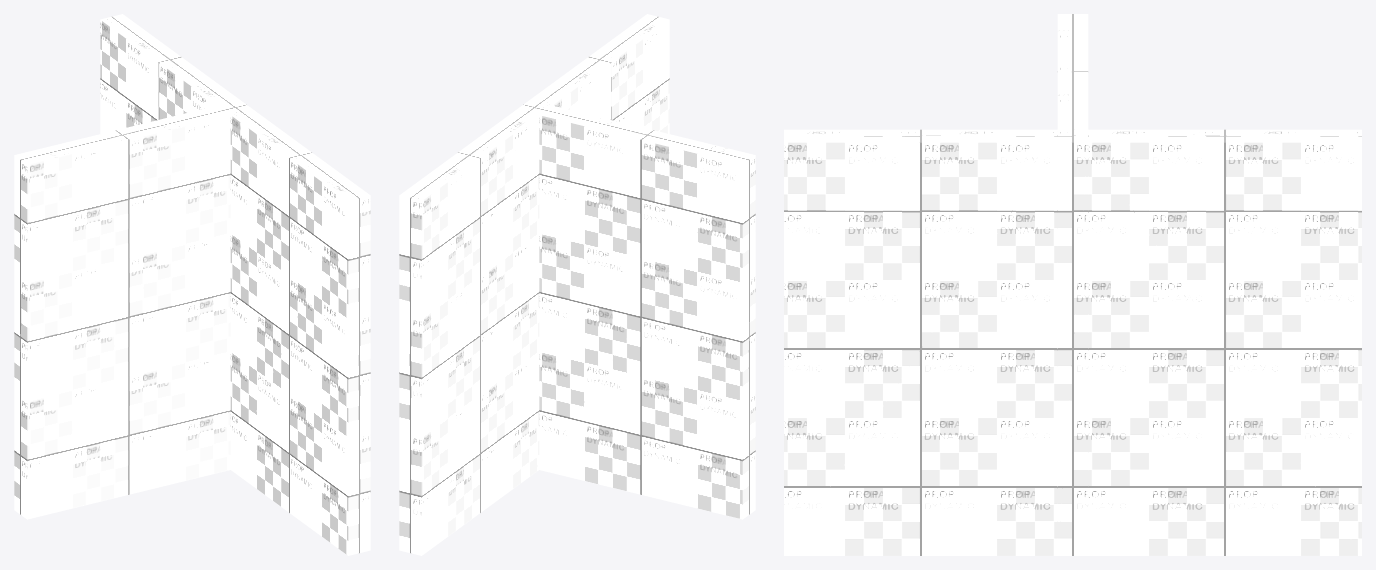
The model's file is Fence_T_2x3.fbx.
The picture shows the model from 3 angles, left to right: view 1: azimuth 30°, elevation 25°; view 2: azimuth 150°, elevation 25°; view 3: azimuth 270°, elevation 25°; orthographic projection. The views are drawn at different scales.
Visible parts, largest first — view 1: Fence_T_2x3; view 2: Fence_T_2x3; view 3: Fence_T_2x3.
Boxes of the visible parts, x1,y1,x2,y2 form: Fence_T_2x3: [14, 14, 370, 555]; Fence_T_2x3: [399, 14, 755, 555]; Fence_T_2x3: [784, 14, 1361, 555].
Bounding box in the file's own units: 200 × 300 × 380.
